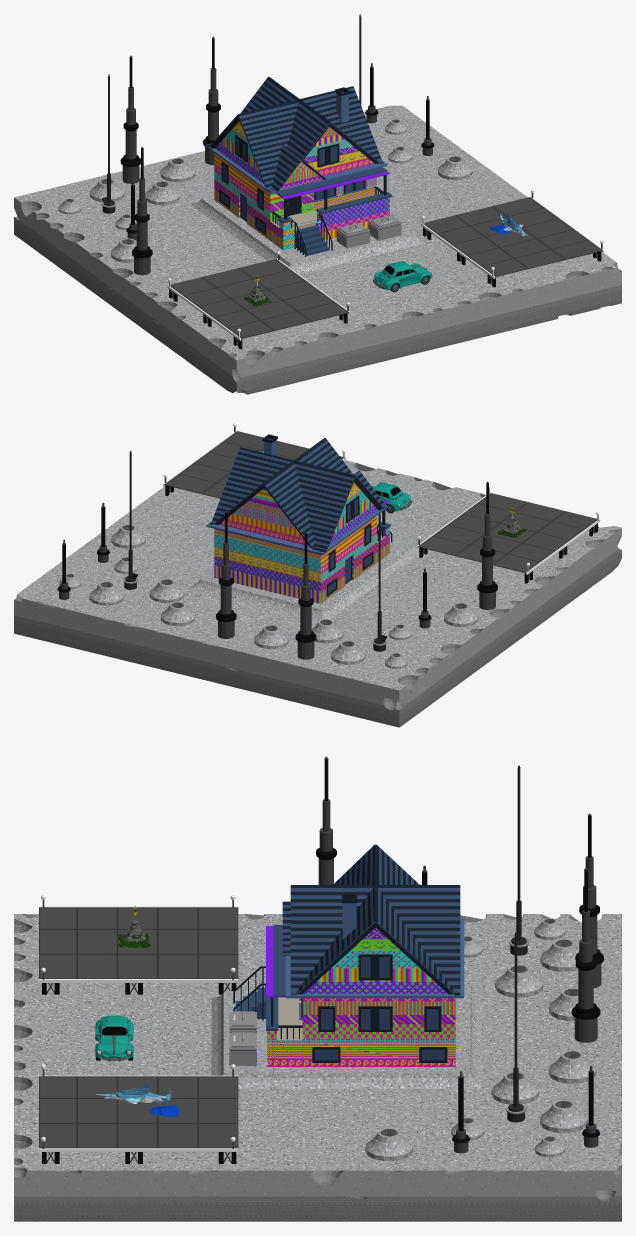
3 views of the same model, one above another, from view 1: azimuth 30°, elevation 25°; view 2: azimuth 150°, elevation 25°; view 3: azimuth 270°, elevation 25° (orthographic). The views are drawn at different scales.
Visible parts, largest first — view 1: Cube.027, Cube.676, Cube.025, Cube.026, Cube.028, Cylinder.020, Cylinder.021, VEHICLES_VOLKSWAGEN, Cylinder.017, Cube.029, Cube.030, Cylinder.027 (+3 smaller); view 2: Cube.027, Cube.676, Cube.025, Cube.028, Cube.026, Cylinder.020, Cylinder.021, Cylinder.017, VEHICLES_VOLKSWAGEN, Cylinder.031, Cylinder.028, Cylinder.029 (+7 smaller); view 3: Cube.027, Cube.676, Cube.025, Cube.026, Cube.028, Cylinder.017, VEHICLES_VOLKSWAGEN, Cylinder.020, Cylinder.021, Cylinder.033, Cylinder.031, Cylinder.029 (+10 smaller).
Part boxes in pixels (x1,y1,x2,y2): Cube.027: (14, 105, 621, 394); Cube.676: (205, 76, 392, 256); Cube.025: (167, 251, 350, 349); Cube.026: (421, 189, 604, 287); Cube.028: (191, 195, 424, 274); Cylinder.020: (120, 55, 140, 183); Cylinder.021: (132, 146, 152, 275); VEHICLES_VOLKSWAGEN: (373, 261, 432, 292); Cylinder.017: (203, 36, 220, 164); Cube.029: (336, 222, 370, 248); Cube.030: (368, 215, 401, 240); Cylinder.027: (160, 158, 195, 182); Cube.027: (14, 460, 621, 727); Cube.676: (206, 434, 392, 603); Cube.025: (417, 485, 600, 583); Cube.028: (190, 538, 419, 620); Cube.026: (163, 423, 346, 498); Cylinder.020: (295, 531, 316, 659); Cylinder.021: (477, 481, 497, 609); Cylinder.017: (216, 510, 236, 638); VEHICLES_VOLKSWAGEN: (371, 482, 411, 513); Cylinder.031: (89, 581, 124, 605); Cylinder.028: (331, 640, 365, 664); Cylinder.029: (160, 601, 195, 626); Cube.027: (14, 914, 621, 1221); Cube.676: (233, 844, 464, 1066); Cube.025: (39, 895, 238, 994); Cube.026: (39, 1064, 238, 1163); Cube.028: (211, 991, 481, 1088); Cylinder.017: (571, 867, 600, 1042); VEHICLES_VOLKSWAGEN: (95, 1015, 133, 1061); Cylinder.020: (575, 813, 603, 988); Cylinder.021: (316, 756, 336, 884); Cylinder.033: (365, 1128, 413, 1160); Cylinder.031: (540, 1100, 587, 1132); Cylinder.029: (548, 1050, 596, 1083).
Bounding box in the file's own units: 4000 × 1777 × 4000.
45 materials, 8 textured.
